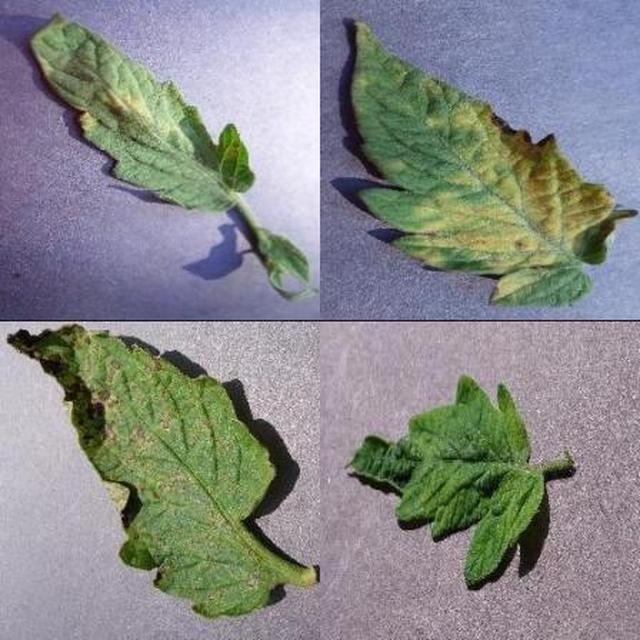Leaf Mold: (204, 160, 640, 640)
